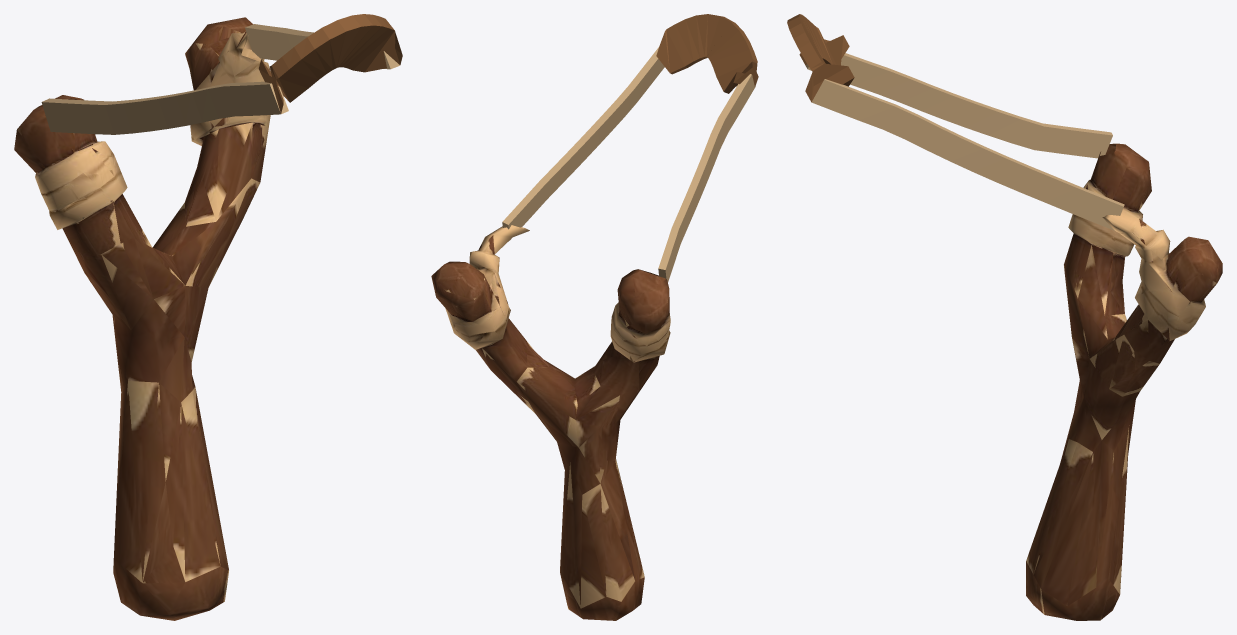
The model's file is sling.glb.
3 views of the same model, side by side, from view 1: azimuth 30°, elevation 25°; view 2: azimuth 150°, elevation 25°; view 3: azimuth 270°, elevation 25° (orthographic). The views are drawn at different scales.
Visible parts, largest first — view 1: Model; view 2: Model; view 3: Model.
Boxes of the visible parts, x1,y1,x2,y2 form: Model: (14, 14, 402, 620); Model: (431, 14, 758, 620); Model: (787, 14, 1222, 620).
Size of the model in its own units: 0.1947 by 0.4618 by 0.3054.
Materials: 3 (1 with a texture image).
